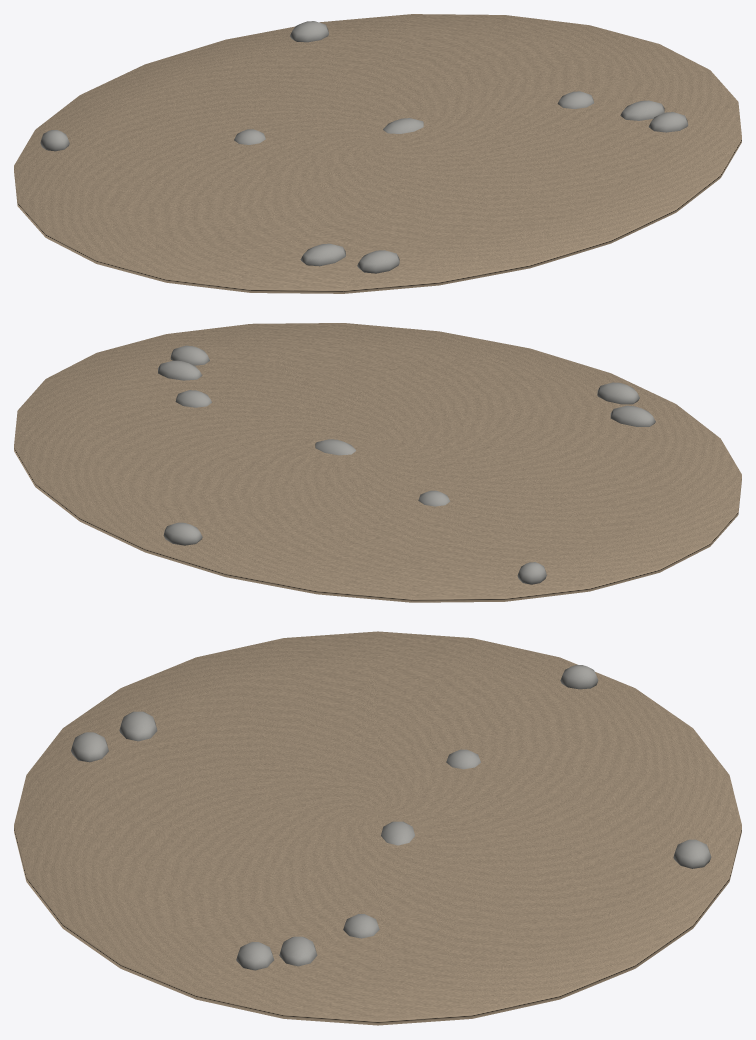
File: exotic-wildlife-hd-earth-scrape-60c2eaf1__30233.glb
3 renders of one model, top to bottom at view 1: azimuth 30°, elevation 25°; view 2: azimuth 150°, elevation 25°; view 3: azimuth 270°, elevation 25°, orthographic. The views are drawn at different scales.
Parts seen in each view (by area): view 1: earth-scrape; view 2: earth-scrape; view 3: earth-scrape.
Boxes of the visible parts, bbox=[...] form: earth-scrape: bbox=[14, 14, 741, 293]; earth-scrape: bbox=[14, 323, 741, 602]; earth-scrape: bbox=[14, 631, 741, 1025].
Size of the model in its own units: 3.31 by 0.1501 by 2.63.
Materials: 3 (3 with a texture image).
